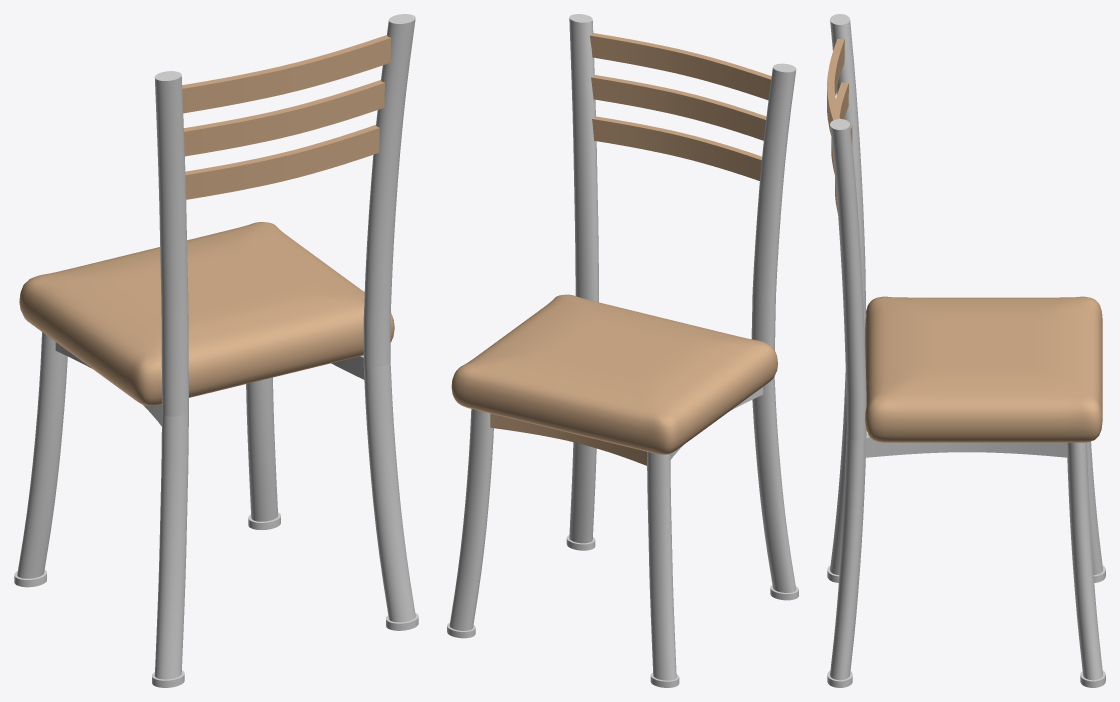
File: Chaise1_7.fbx
The picture shows the model from 3 angles, left to right: view 1: azimuth 30°, elevation 25°; view 2: azimuth 150°, elevation 25°; view 3: azimuth 270°, elevation 25°; orthographic projection. The views are drawn at different scales.
Visible parts, largest first — view 1: pCube2654, pCylinder1646, pCylinder1647, pCylinder1651, pCylinder1650, pCylinder1648, pCube2653, pCube2652, pCube2651, pCylinder1649; view 2: pCube2654, pCylinder1646, pCylinder1647, pCylinder1648, pCylinder1649, pCylinder1651, pCube2653, pCube2652, pCube2651, pCylinder1650, pCube2659; view 3: pCube2654, pCylinder1647, pCylinder1650, pCylinder1649, pCylinder1646, pCube2655, pCylinder1651, pCylinder1648, pCube2653, pCube2652.
Boxes of the visible parts, left/top/right/bottom form: pCube2654: left=19, top=222, right=394, bottom=405; pCylinder1646: left=154, top=71, right=188, bottom=416; pCylinder1647: left=363, top=14, right=415, bottom=367; pCylinder1651: left=152, top=411, right=188, bottom=687; pCylinder1650: left=363, top=362, right=418, bottom=630; pCylinder1648: left=14, top=332, right=67, bottom=587; pCube2653: left=182, top=35, right=391, bottom=113; pCube2652: left=184, top=80, right=384, bottom=156; pCube2651: left=185, top=125, right=379, bottom=199; pCylinder1649: left=246, top=377, right=280, bottom=529; pCube2654: left=451, top=294, right=777, bottom=454; pCylinder1646: left=751, top=63, right=796, bottom=349; pCylinder1647: left=569, top=14, right=598, bottom=302; pCylinder1648: left=647, top=452, right=679, bottom=687; pCylinder1649: left=447, top=409, right=493, bottom=638; pCylinder1651: left=752, top=376, right=798, bottom=600; pCube2653: left=590, top=33, right=771, bottom=100; pCube2652: left=591, top=75, right=766, bottom=140; pCube2651: left=592, top=116, right=761, bottom=180; pCylinder1650: left=566, top=442, right=596, bottom=550; pCube2659: left=490, top=413, right=646, bottom=465; pCube2654: left=865, top=296, right=1102, bottom=442; pCylinder1647: left=830, top=119, right=866, bottom=440; pCylinder1650: left=827, top=436, right=865, bottom=687; pCylinder1649: left=1067, top=442, right=1105, bottom=687; pCylinder1646: left=830, top=14, right=866, bottom=337; pCube2655: left=865, top=433, right=1067, bottom=457; pCylinder1651: left=827, top=373, right=846, bottom=582; pCylinder1648: left=1087, top=441, right=1105, bottom=582; pCube2653: left=827, top=38, right=844, bottom=134; pCube2652: left=831, top=82, right=848, bottom=174.
Bounding box in the file's own units: 38.53 × 84.55 × 38.35.
